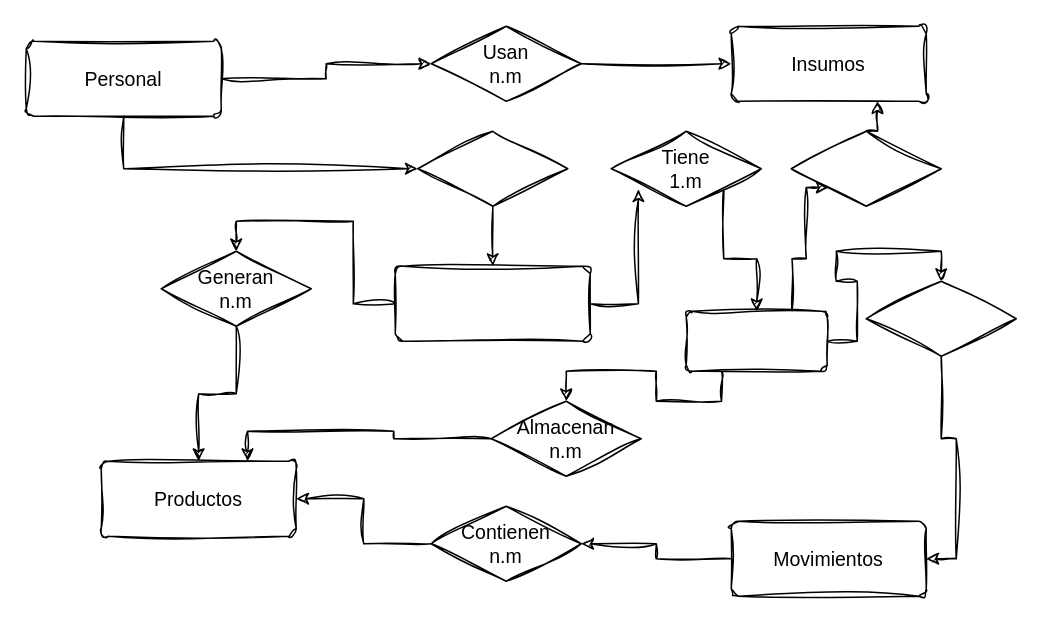
This 1043x623 diagram has some shape labels left out. The box of each missing label's shape, as (x1, y1, x2, y2) in pixels:
Bodegas: (685, 310, 827, 371)
Fabricas😩: (394, 265, 590, 341)
Generan 1.m: (865, 280, 1016, 356)
Guarda n.m: (790, 130, 941, 206)
Trabaja 1.m: (416, 130, 568, 206)
